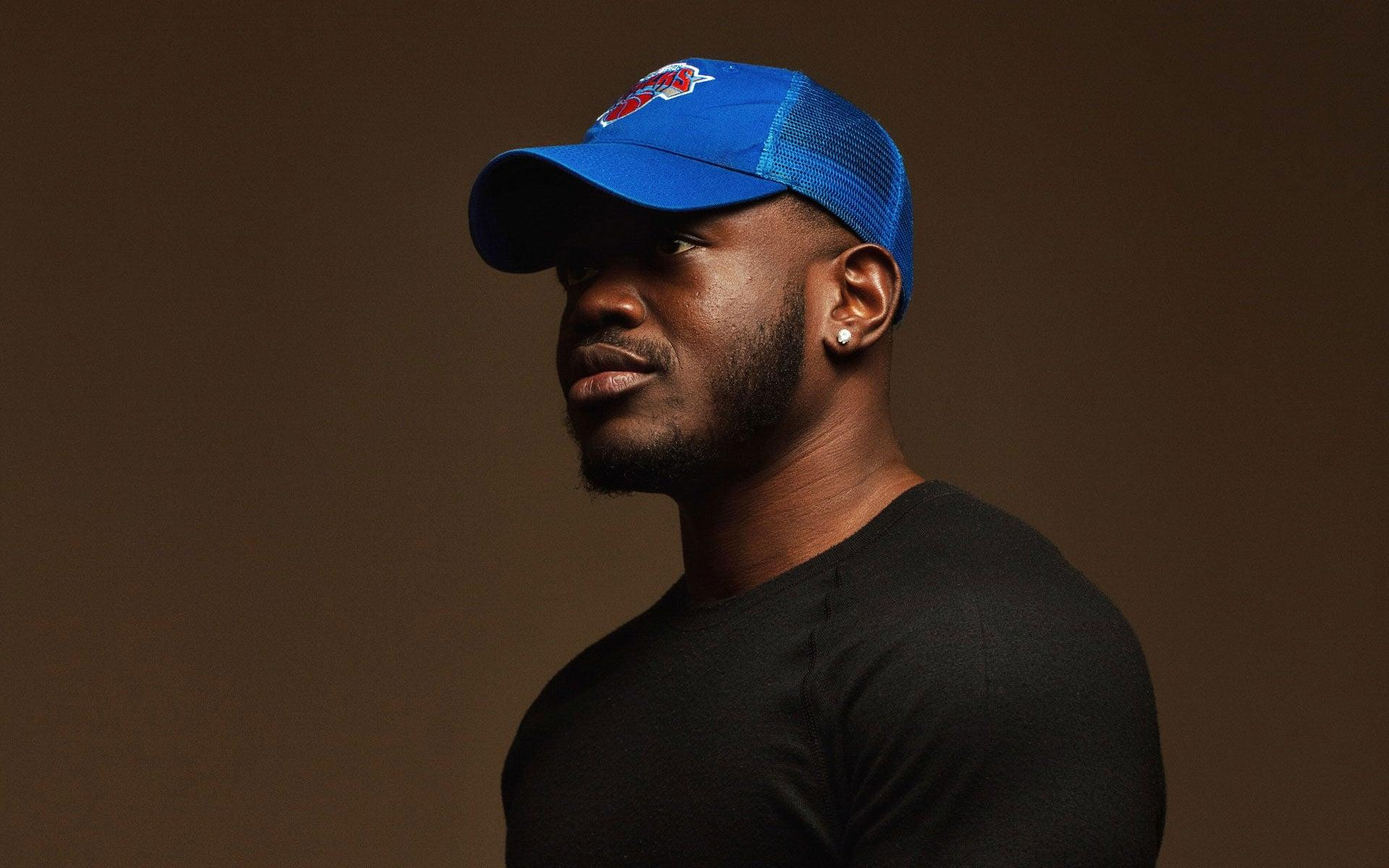cap: (449, 43, 979, 309)
